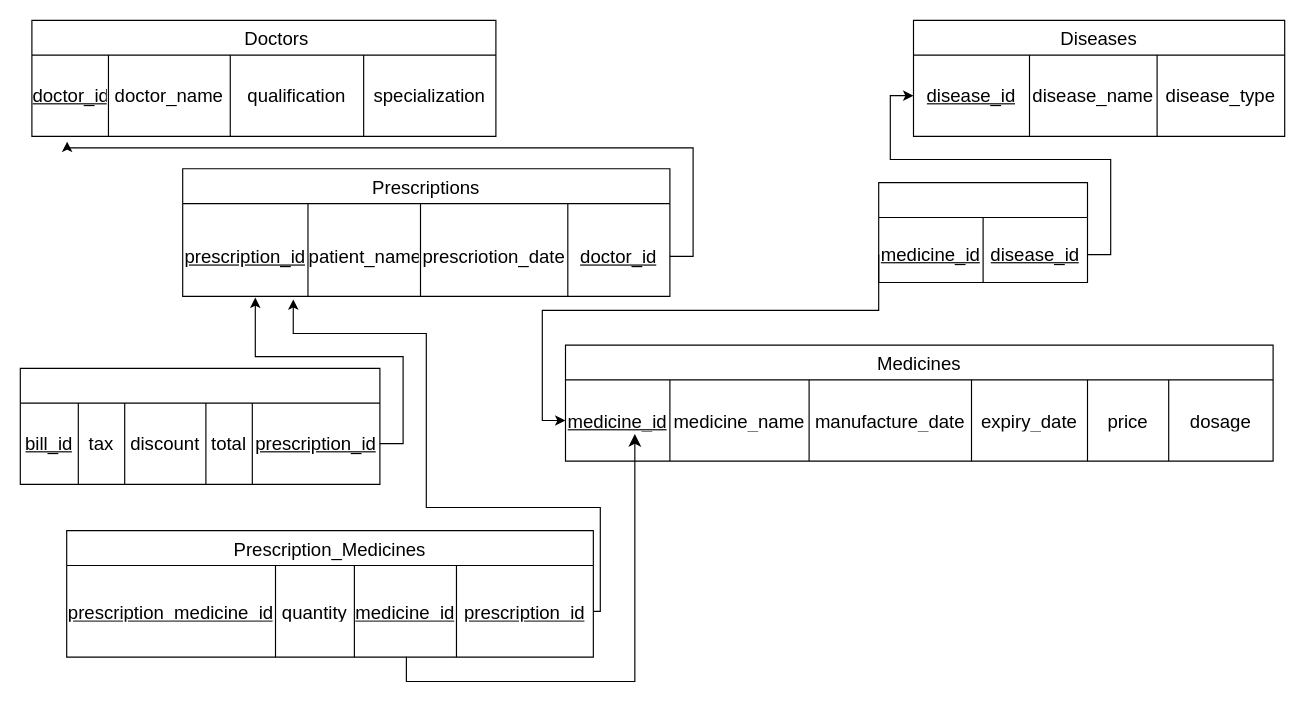
Some shapes in this 1305 by 713 pixel diagram are drawn without their labels. Each missing label, with the box of its shape:
Bills: (19, 367, 380, 484)
Medicine_Dieases: (878, 182, 1088, 282)
